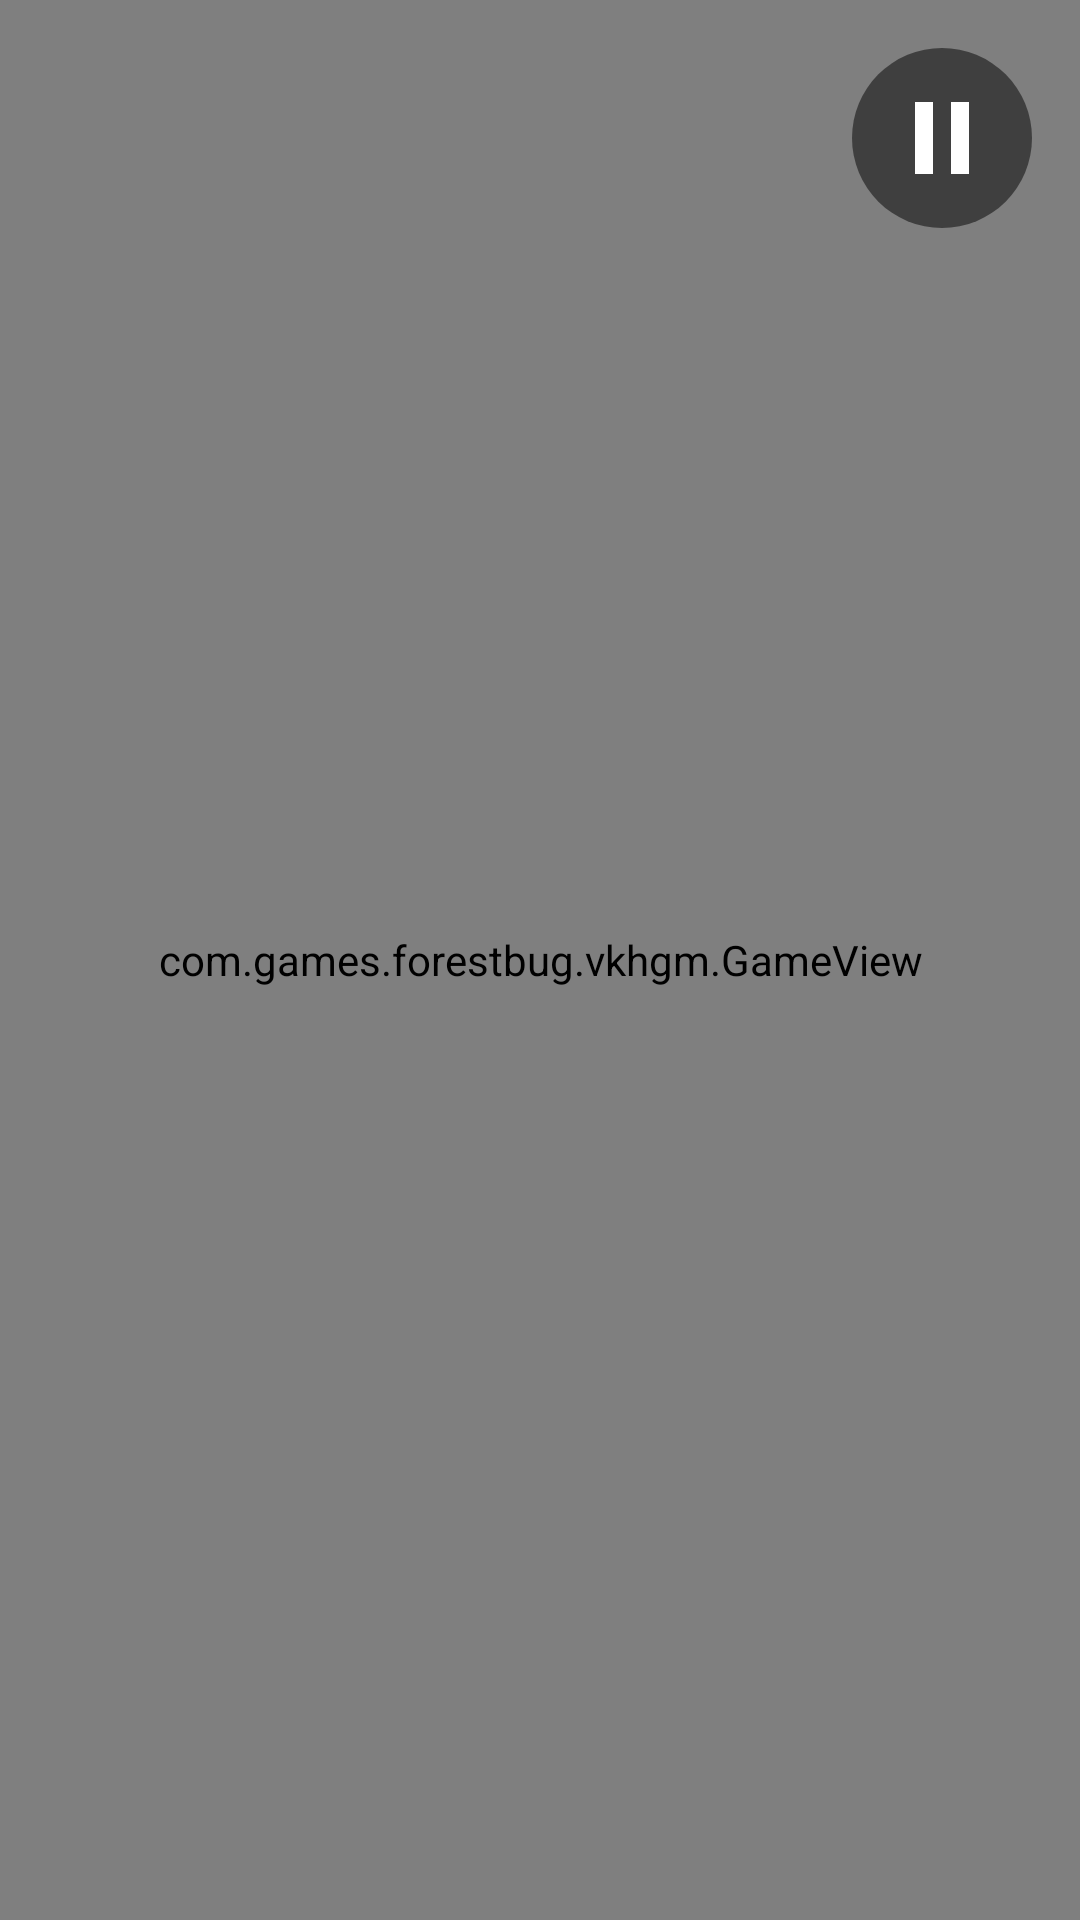

Where icons sit on this 1080×1920 app screen, as (x1, y1, x2, y2):
Pause: (852, 48, 1032, 228)
